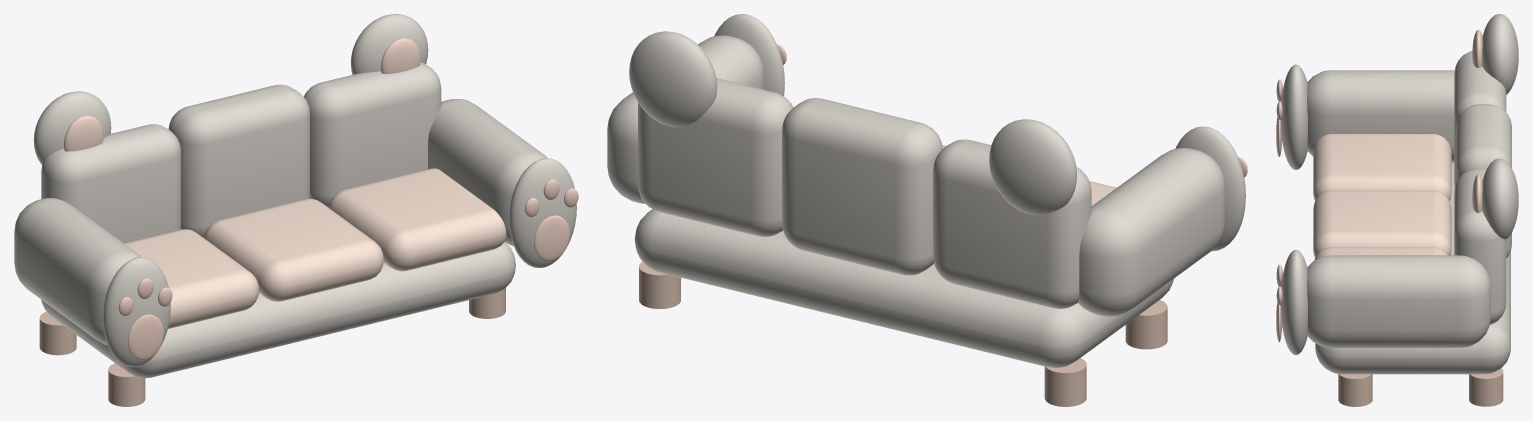
The model's file is sofa.glb.
3 renders of one model, left to right at view 1: azimuth 30°, elevation 25°; view 2: azimuth 150°, elevation 25°; view 3: azimuth 270°, elevation 25°, orthographic. The views are drawn at different scales.
Visible parts, largest first — view 1: Base_Cream_Frame, Back_Center_Cream, Back_Right_Cream, Back_Left_Cream, Seat_Center_Peach, Seat_Right_Peach, Arm_Left_Cream, Arm_Right_Cream, Seat_Left_Peach, Paw_Right_Face, Paw_Left_Face, Ear_Left_Outer (+8 smaller); view 2: Base_Cream_Frame, Back_Center_Cream, Back_Left_Cream, Back_Right_Cream, Arm_Left_Cream, Ear_Left_Outer, Ear_Right_Outer, Arm_Right_Cream, Paw_Left_Face, Paw_Right_Face, Foot_LBack, Foot_LFront (+1 smaller); view 3: Arm_Right_Cream, Arm_Left_Cream, Seat_Center_Peach, Seat_Left_Peach, Base_Cream_Frame, Back_Right_Cream, Back_Center_Cream, Paw_Left_Face, Paw_Right_Face, Ear_Right_Outer, Back_Left_Cream, Ear_Left_Outer (+5 smaller).
Boxes of the visible parts, box(x1,y1,x2,y2) form: Base_Cream_Frame: box(41, 242, 515, 378); Back_Center_Cream: box(168, 84, 309, 237); Back_Right_Cream: box(304, 62, 441, 207); Back_Left_Cream: box(41, 124, 180, 243); Seat_Center_Peach: box(204, 199, 383, 301); Seat_Right_Peach: box(328, 168, 506, 271); Arm_Left_Cream: box(14, 198, 141, 345); Arm_Right_Cream: box(428, 99, 547, 246); Seat_Left_Peach: box(124, 229, 258, 328); Paw_Right_Face: box(509, 158, 576, 267); Paw_Left_Face: box(103, 257, 170, 367); Ear_Left_Outer: box(33, 91, 111, 164); Base_Cream_Frame: box(634, 209, 1173, 367); Back_Center_Cream: box(782, 98, 942, 275); Back_Left_Cream: box(933, 139, 1091, 308); Back_Right_Cream: box(638, 78, 793, 236); Arm_Left_Cream: box(1078, 148, 1225, 316); Ear_Left_Outer: box(989, 119, 1076, 215); Ear_Right_Outer: box(629, 31, 716, 127); Arm_Right_Cream: box(607, 35, 764, 203); Paw_Left_Face: box(1175, 126, 1245, 251); Paw_Right_Face: box(714, 14, 784, 96); Foot_LBack: box(1044, 358, 1086, 406); Foot_LFront: box(1125, 300, 1167, 349); Arm_Right_Cream: box(1307, 255, 1490, 347); Arm_Left_Cream: box(1307, 70, 1454, 162); Seat_Center_Peach: box(1313, 190, 1451, 257); Seat_Left_Peach: box(1313, 134, 1451, 200); Base_Cream_Frame: box(1315, 163, 1510, 374); Back_Right_Cream: box(1454, 169, 1506, 324); Back_Center_Cream: box(1456, 104, 1511, 257); Paw_Left_Face: box(1280, 64, 1307, 169); Paw_Right_Face: box(1280, 250, 1307, 355); Ear_Right_Outer: box(1482, 158, 1518, 239); Back_Left_Cream: box(1454, 51, 1506, 186); Ear_Left_Outer: box(1482, 14, 1518, 94).
Bounding box in the file's own units: 3 × 1.49 × 1.43.
